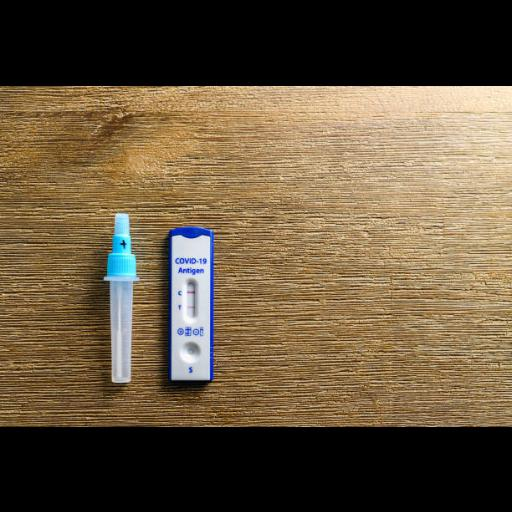Pos: (170, 226, 212, 378)
